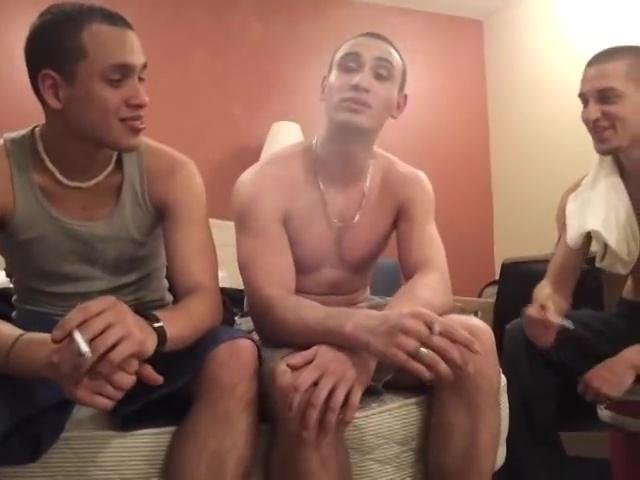cigarette: (69, 323, 94, 358), (549, 311, 580, 330), (425, 316, 441, 338)
